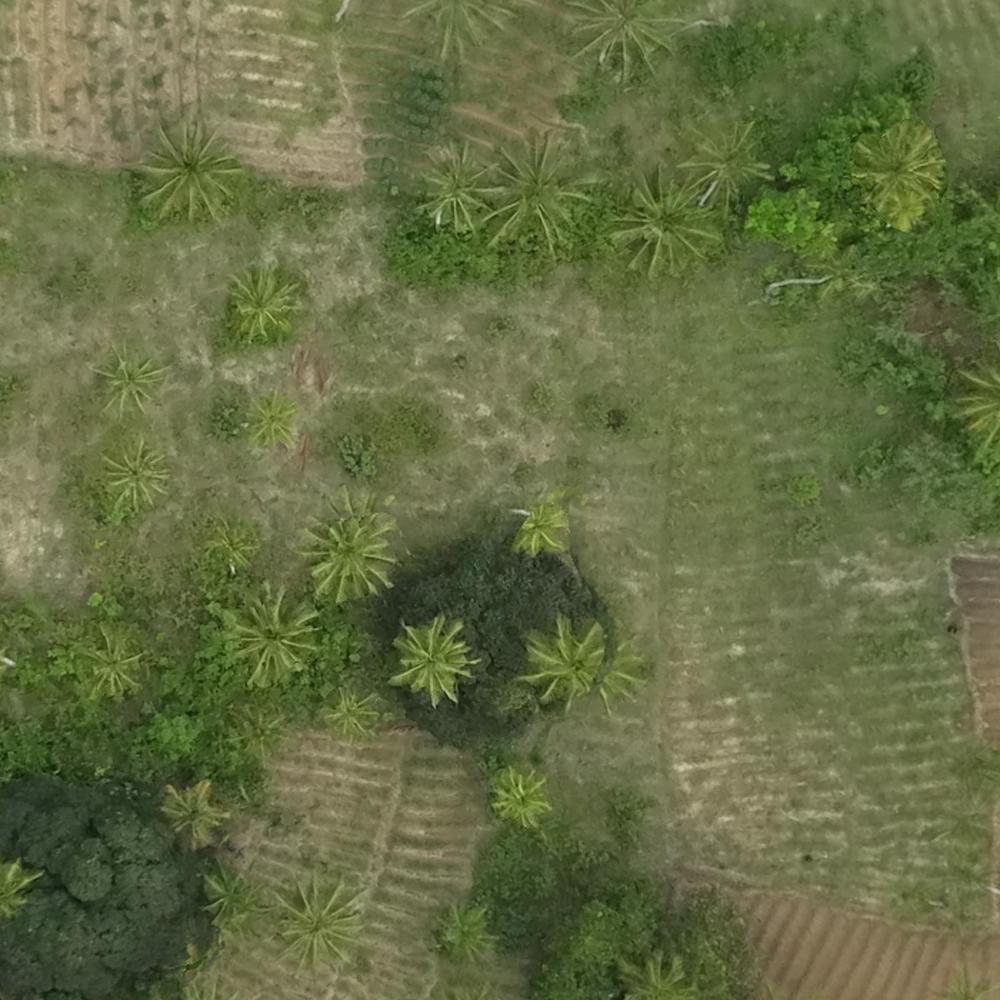Palm: (609, 171, 715, 275), (492, 135, 585, 249), (133, 123, 235, 216), (304, 499, 396, 595), (853, 124, 945, 218), (225, 592, 320, 682), (677, 114, 770, 205), (275, 876, 366, 968), (518, 622, 608, 706), (417, 144, 501, 232), (222, 264, 303, 343), (393, 624, 469, 708), (77, 623, 151, 699), (153, 777, 231, 847), (90, 343, 162, 417), (102, 439, 174, 512), (433, 901, 499, 971), (485, 766, 549, 833), (325, 686, 384, 743), (513, 501, 571, 554), (246, 392, 297, 452)
